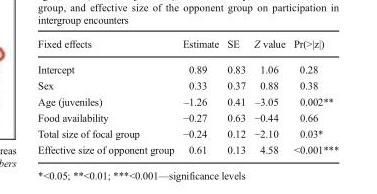table: (37, 37, 338, 155)
table column: (37, 37, 177, 155), (288, 37, 338, 155), (177, 37, 222, 155), (249, 37, 288, 155), (222, 37, 249, 155)
table column header: (37, 37, 338, 56)
table row: (37, 56, 338, 77), (37, 37, 338, 56), (37, 124, 338, 141), (37, 77, 338, 93), (37, 108, 338, 124), (37, 93, 338, 108), (37, 141, 338, 155)
